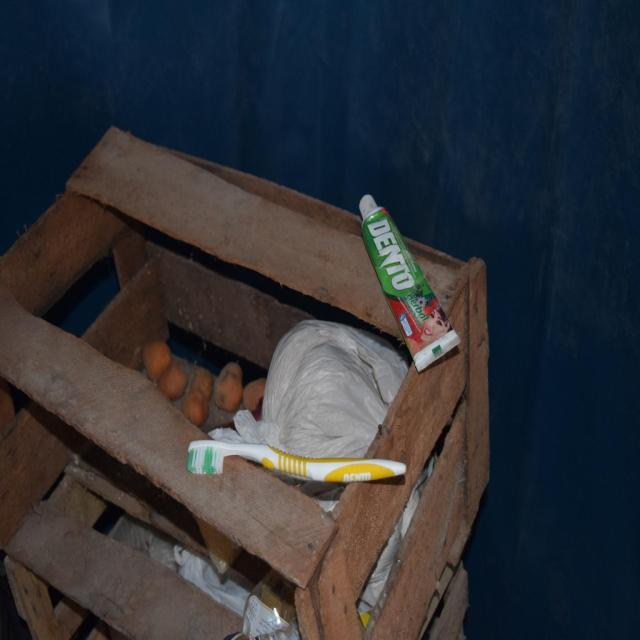Toothpaste: (358, 191, 462, 374)
